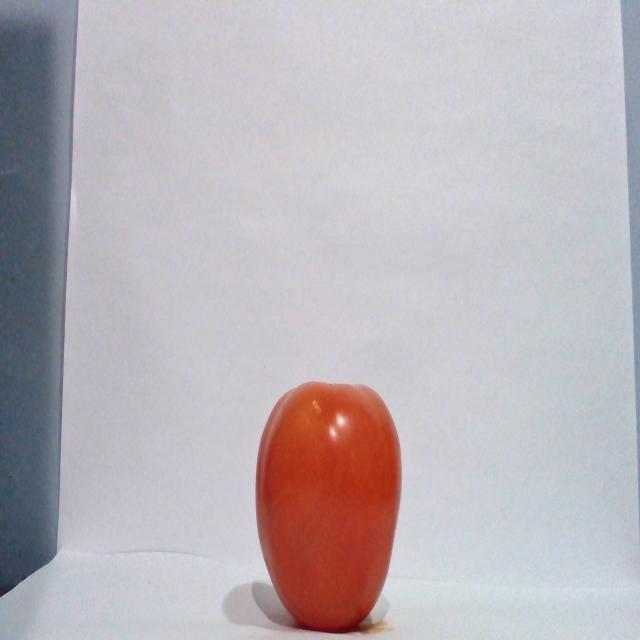Red: (253, 379, 403, 632)
